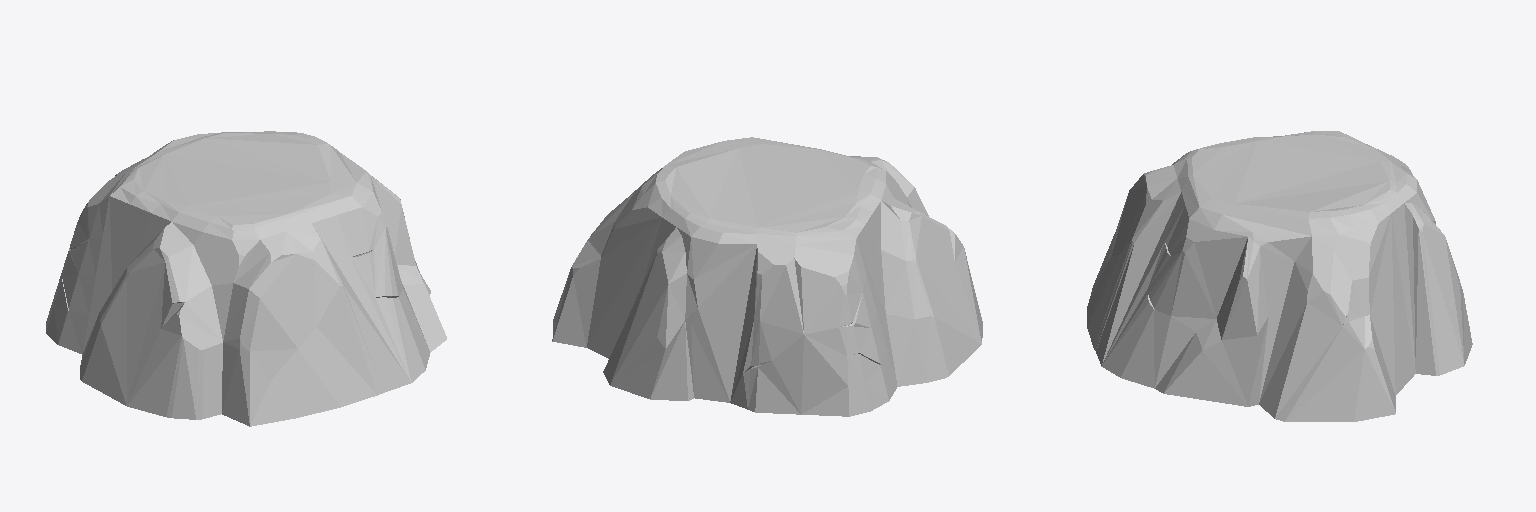
The model's file is MC_Player_Area.obj.
3 renders of one model, left to right at view 1: azimuth 30°, elevation 25°; view 2: azimuth 150°, elevation 25°; view 3: azimuth 270°, elevation 25°, orthographic.
Visible parts, largest first — view 1: Roc_Player_Area; view 2: Roc_Player_Area; view 3: Roc_Player_Area.
Boxes of the visible parts, x1=… form: Roc_Player_Area: x1=46, y1=131, x2=446, y2=426; Roc_Player_Area: x1=552, y1=137, x2=982, y2=416; Roc_Player_Area: x1=1087, y1=131, x2=1472, y2=421.
Size of the model in its own units: 2.58 by 1.13 by 2.42.